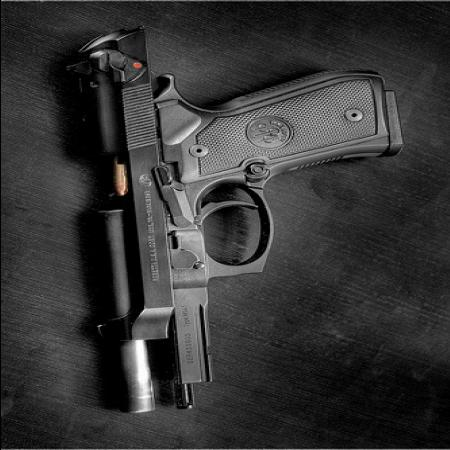Pistol: (77, 27, 411, 417)
